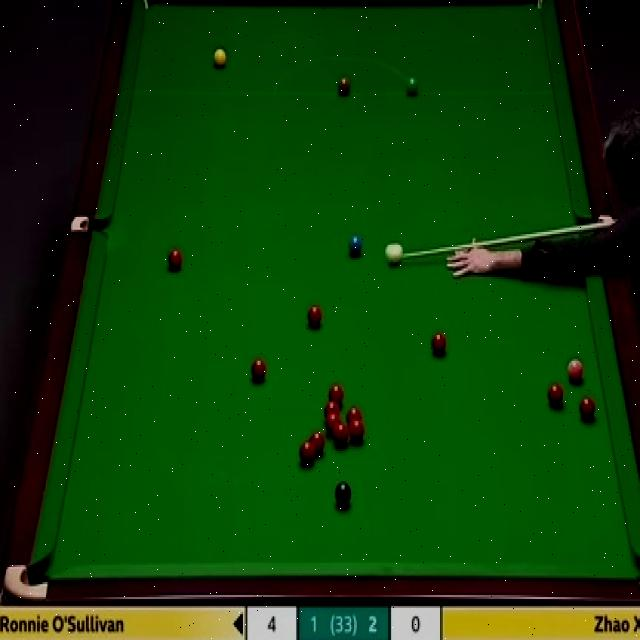black-ball: (334, 479, 352, 511)
blue-ball: (348, 233, 363, 256)
brown-ball: (337, 75, 351, 96)
green-ball: (406, 78, 419, 96)
pink-ball: (567, 357, 584, 384)
red-ball: (250, 356, 268, 386), (298, 441, 316, 467), (348, 420, 366, 446), (548, 383, 566, 408), (310, 433, 327, 459), (579, 397, 597, 421), (306, 305, 324, 329), (432, 331, 447, 357), (168, 248, 183, 272), (334, 422, 348, 446), (326, 384, 344, 401), (325, 414, 340, 434), (324, 400, 339, 417), (347, 409, 361, 423)
white-ball: (384, 239, 403, 266)
yellow-ball: (214, 48, 228, 70)
